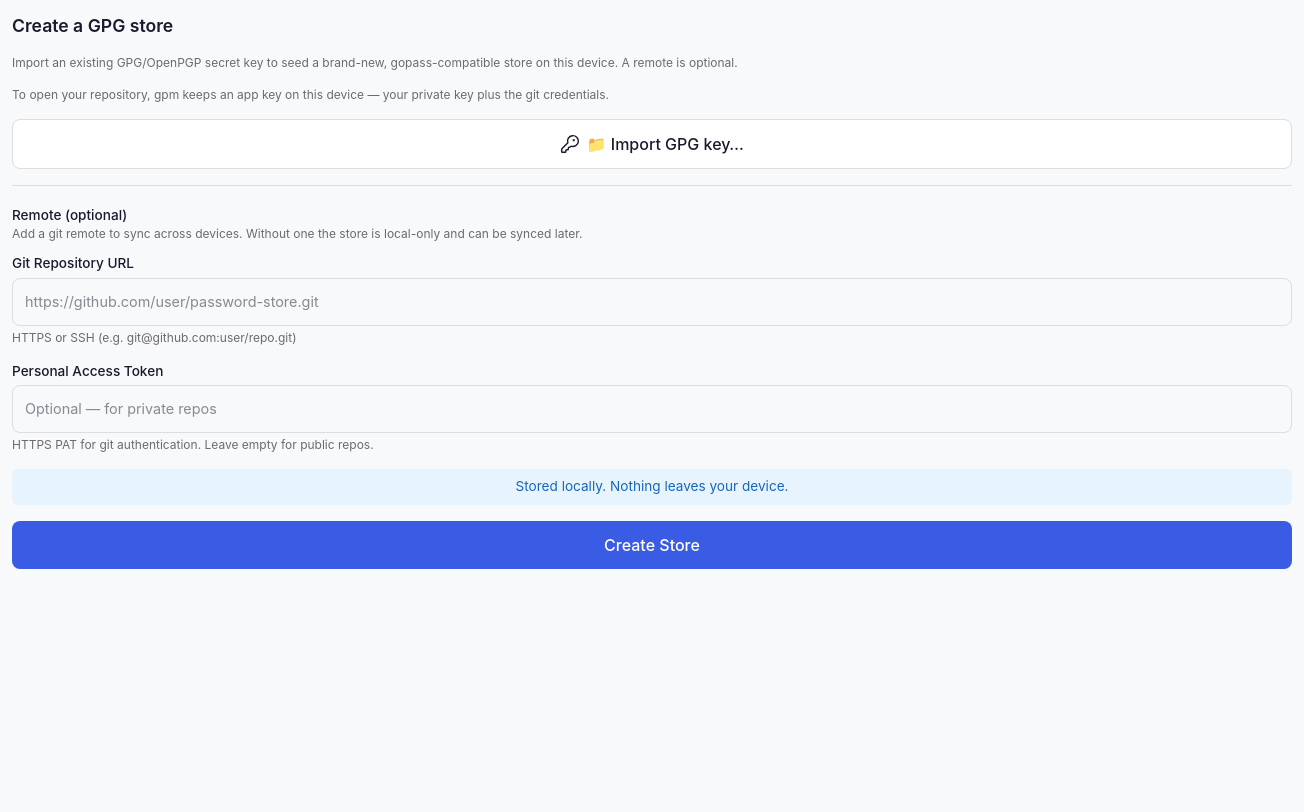
it: CreateGpgFlow › requires the S2K passphrase to be verified before creating
Click the button "📁 Import GPG key…": (652, 144) [12,119,1292,169]
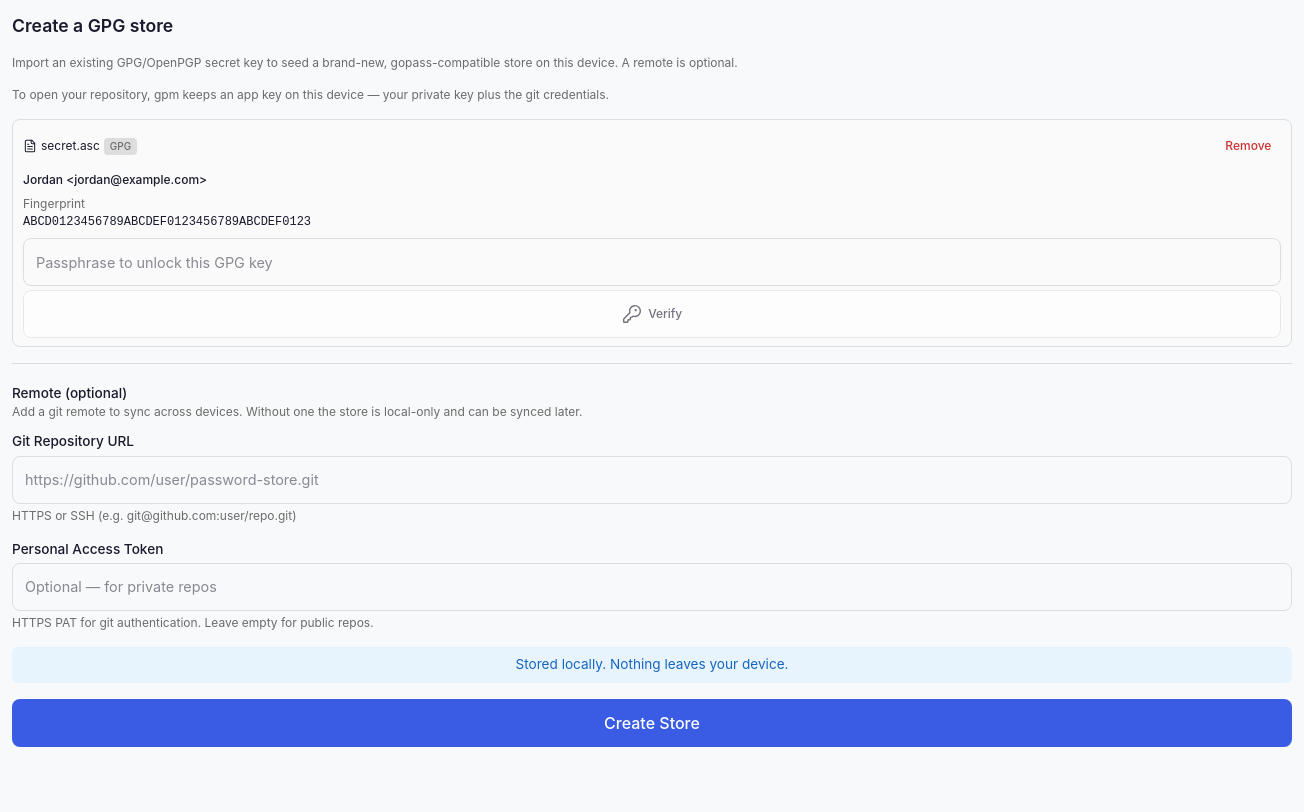
Submit the form
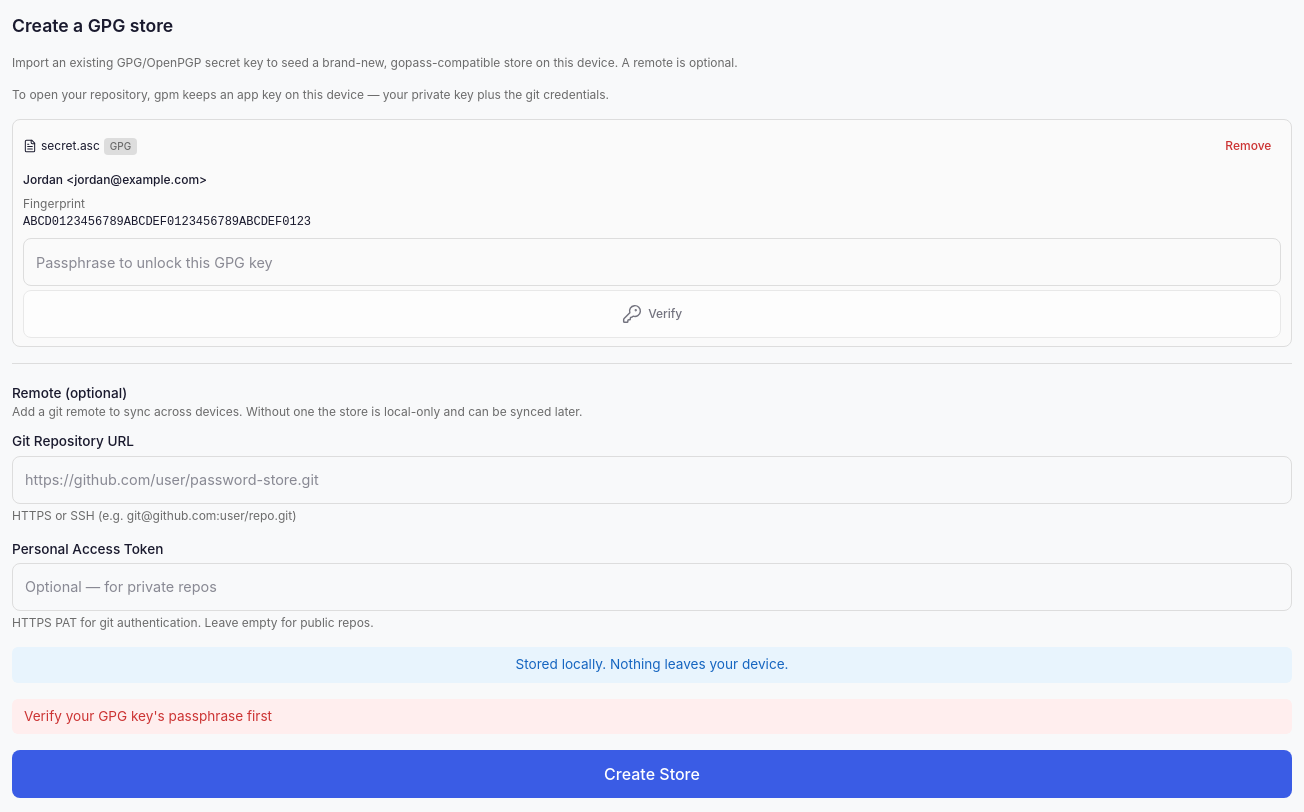
Expected: the message "Verify your GPG key's passphrase first" is shown, [12,699,1292,734]
